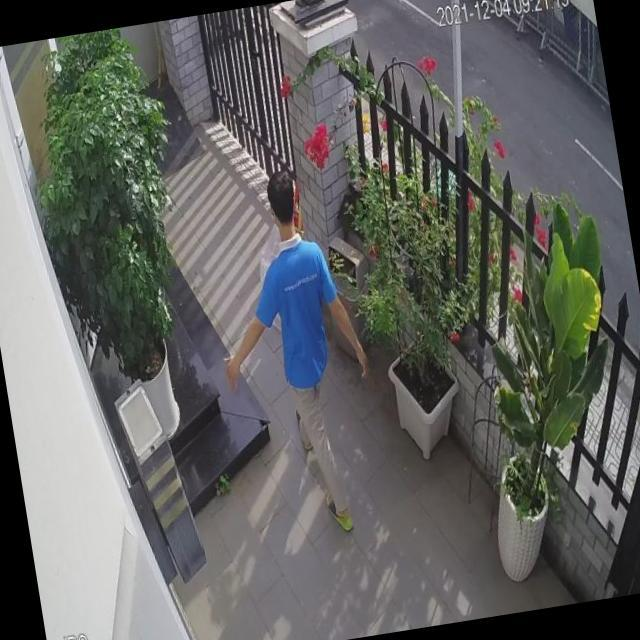person: (198, 158, 393, 540)
